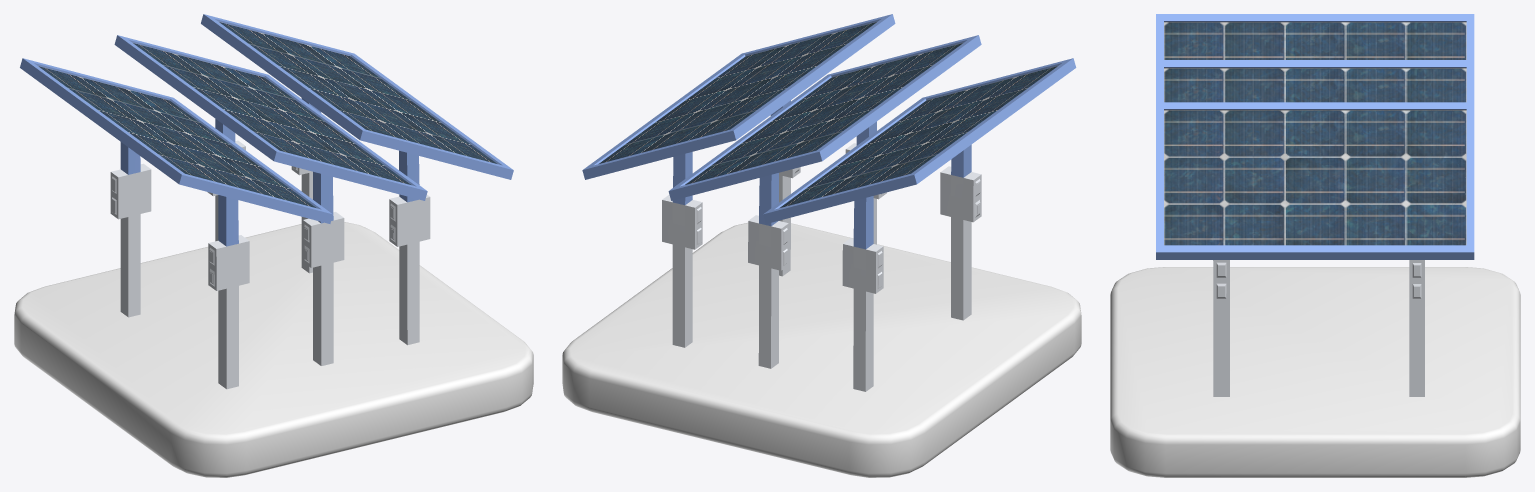
Rendered from index.gltf.
3 renders of one model, left to right at view 1: azimuth 30°, elevation 25°; view 2: azimuth 150°, elevation 25°; view 3: azimuth 270°, elevation 25°, orthographic.
Parts seen in each view (by area): view 1: dizuo, faguasss, faguang; view 2: dizuo, faguasss, faguang; view 3: dizuo, faguasss, faguang.
Boxes of the visible parts, <box> form: dizuo: <box>14,222,533,477</box>; faguasss: <box>38,22,496,389</box>; faguang: <box>20,14,513,246</box>; dizuo: <box>562,222,1081,477</box>; faguasss: <box>599,21,1057,391</box>; faguang: <box>582,14,1076,249</box>; dizuo: <box>1110,267,1520,477</box>; faguasss: <box>1164,22,1466,396</box>; faguang: <box>1156,14,1474,259</box>.
Size of the model in its own units: 2.37 by 1.88 by 2.37.
5 materials, 2 textured.
